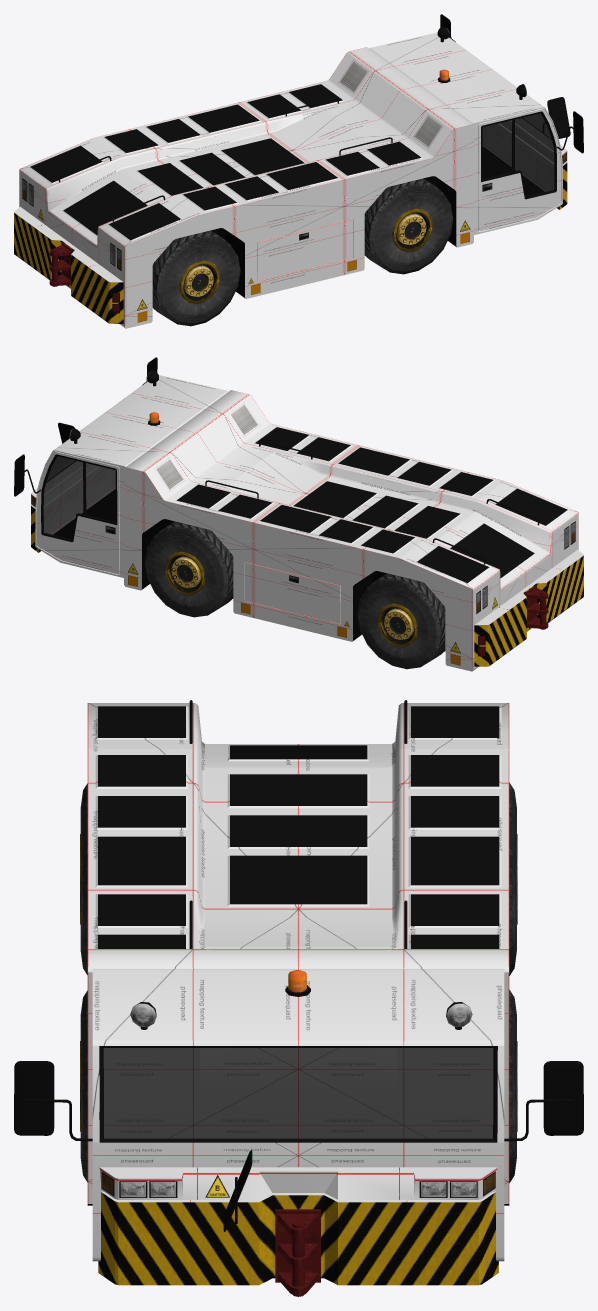
File: aircraft_a.FBX
3 renders of one model, top to bottom at view 1: azimuth 30°, elevation 25°; view 2: azimuth 150°, elevation 25°; view 3: azimuth 270°, elevation 25°, orthographic. The views are drawn at different scales.
Visible parts, largest first — view 1: Line001, Cylinder002, Cylinder001; view 2: Line001, Cylinder003, Cylinder004; view 3: Line001, Cylinder004, Cylinder003, Cylinder001, Cylinder002.
Boxes of the visible parts, x1=… form: Line001: x1=14, y1=14, x2=583, y2=328; Cylinder002: x1=364, y1=178, x2=453, y2=274; Cylinder001: x1=152, y1=230, x2=240, y2=326; Line001: x1=14, y1=357, x2=583, y2=671; Cylinder003: x1=145, y1=521, x2=233, y2=617; Cylinder004: x1=357, y1=573, x2=445, y2=669; Line001: x1=14, y1=700, x2=583, y2=1296; Cylinder004: x1=509, y1=782, x2=517, y2=975; Cylinder003: x1=509, y1=990, x2=517, y2=1182; Cylinder001: x1=80, y1=783, x2=87, y2=974; Cylinder002: x1=80, y1=990, x2=87, y2=1182.
Bounding box in the file's own units: 36.31 × 10.19 × 17.88.
